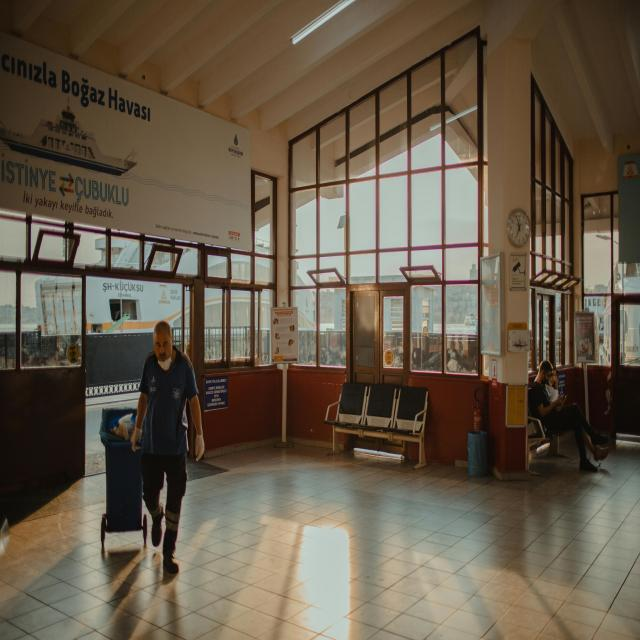cardboard: (114, 417, 133, 437)
